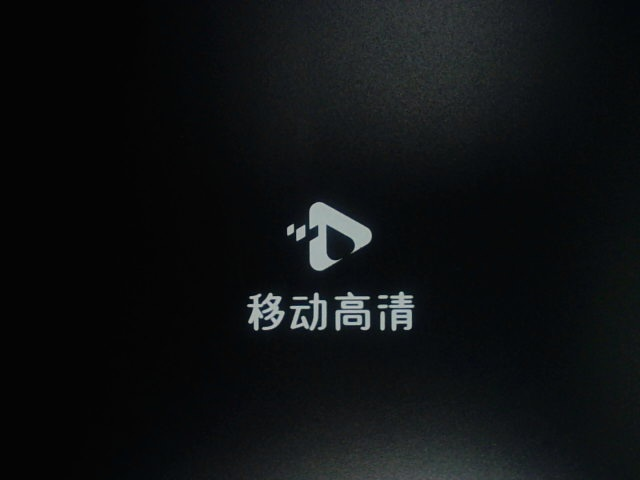AO_MobileHD: (220, 184, 422, 352)
